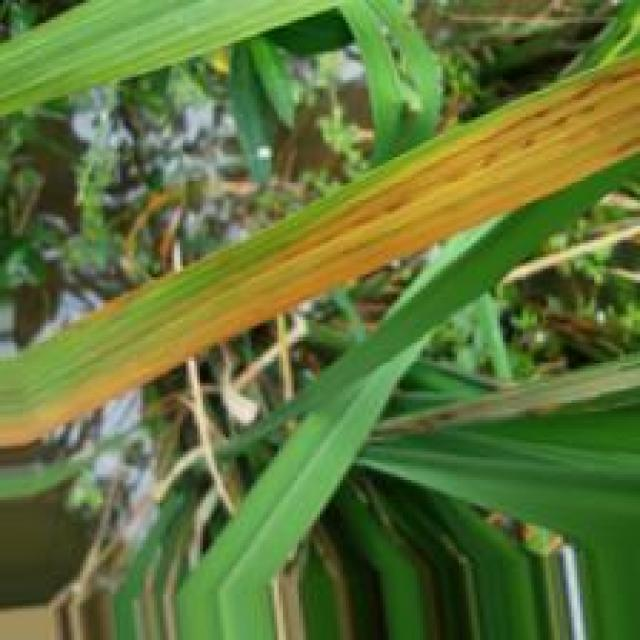Narrow_Brown_Leaf_Spot: (0, 52, 640, 450)
